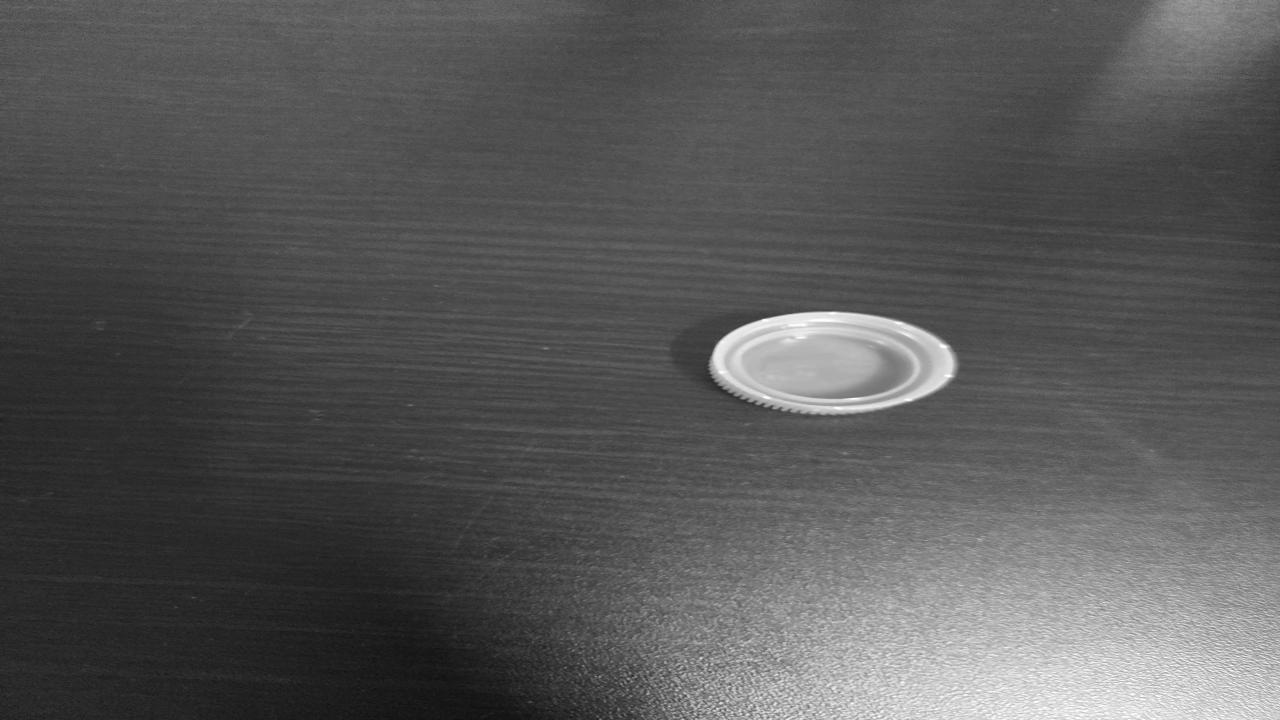bottle_cap: (704, 310, 965, 416)
